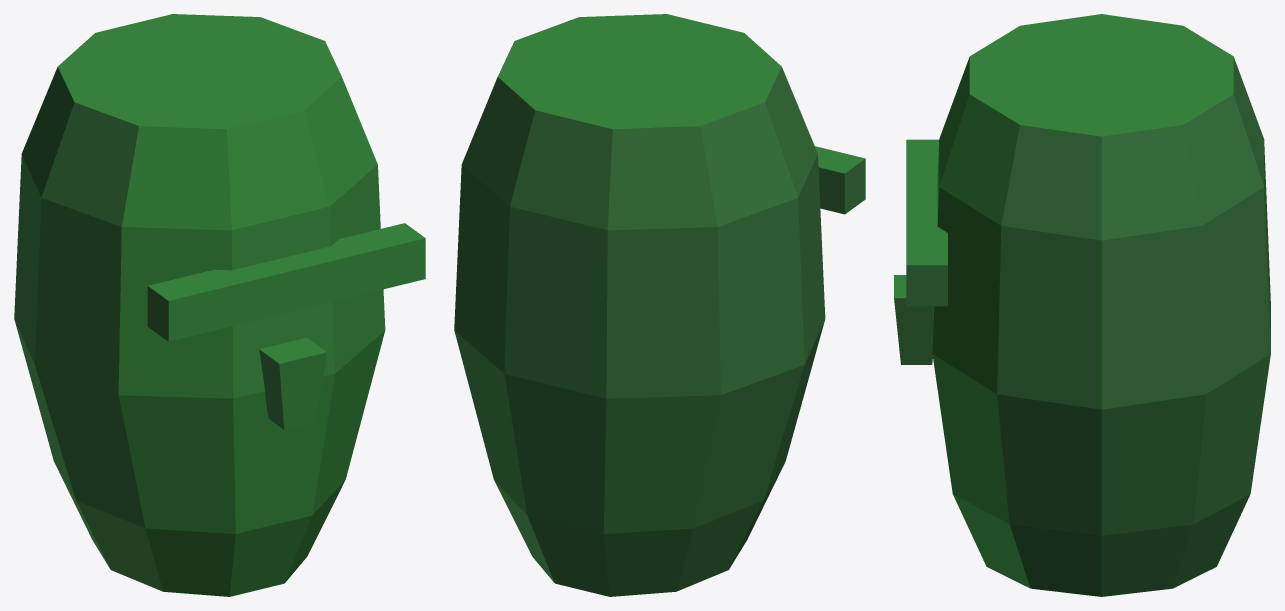
Rendered from wk_head_veteran_v01.glb.
3 views of the same model, side by side, from view 1: azimuth 30°, elevation 25°; view 2: azimuth 150°, elevation 25°; view 3: azimuth 270°, elevation 25° (orthographic).
Parts seen in each view (by area): view 1: GEO_Head_veteran_Shell, GEO_Head_veteran_Brow, GEO_Head_veteran_Nose; view 2: GEO_Head_veteran_Shell, GEO_Head_veteran_Brow; view 3: GEO_Head_veteran_Shell, GEO_Head_veteran_Brow, GEO_Head_veteran_Nose.
Boxes of the visible parts, x1,y1,x2,y2 form: GEO_Head_veteran_Shell: (14,14,385,596); GEO_Head_veteran_Brow: (147,223,425,341); GEO_Head_veteran_Nose: (259,337,327,429); GEO_Head_veteran_Shell: (454,14,825,596); GEO_Head_veteran_Brow: (815,146,865,214); GEO_Head_veteran_Shell: (932,14,1270,596); GEO_Head_veteran_Brow: (906,139,947,306); GEO_Head_veteran_Nose: (894,275,933,364).
Size of the model in its own units: 0.22 by 0.3038 by 0.2171.
